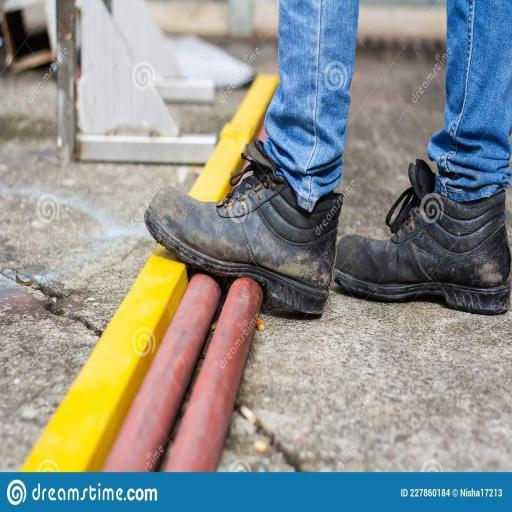safety_boots: (138, 151, 351, 347), (331, 155, 512, 341)
